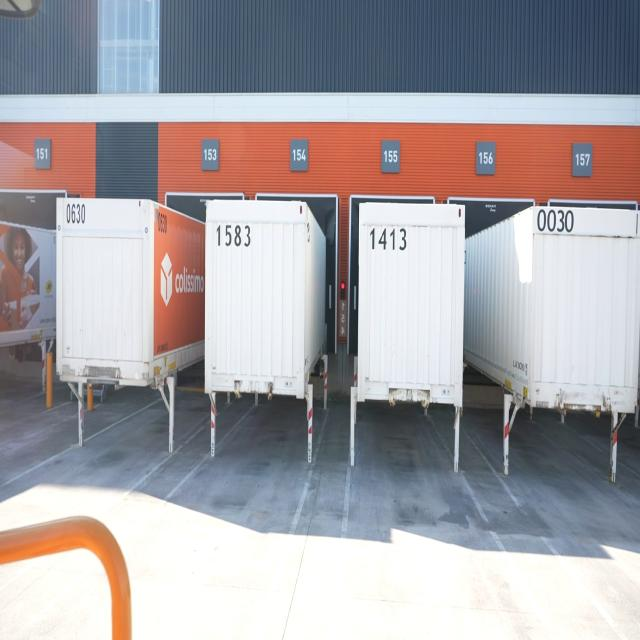Code: (210, 220, 256, 255), (535, 205, 575, 239), (365, 226, 408, 254), (63, 200, 89, 228)
